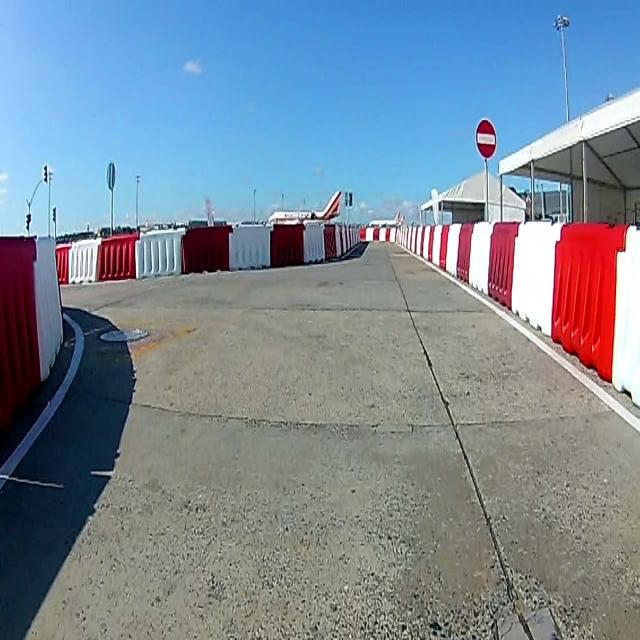girisyok: (475, 117, 497, 160)
